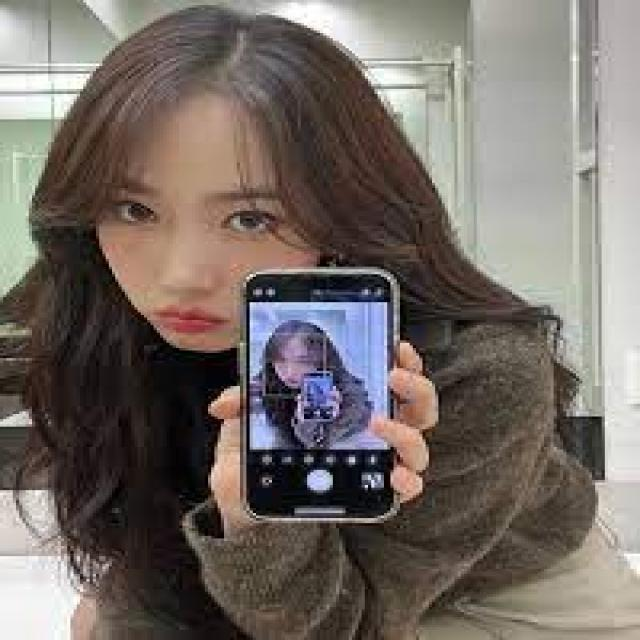mobile: (208, 265, 439, 524)
